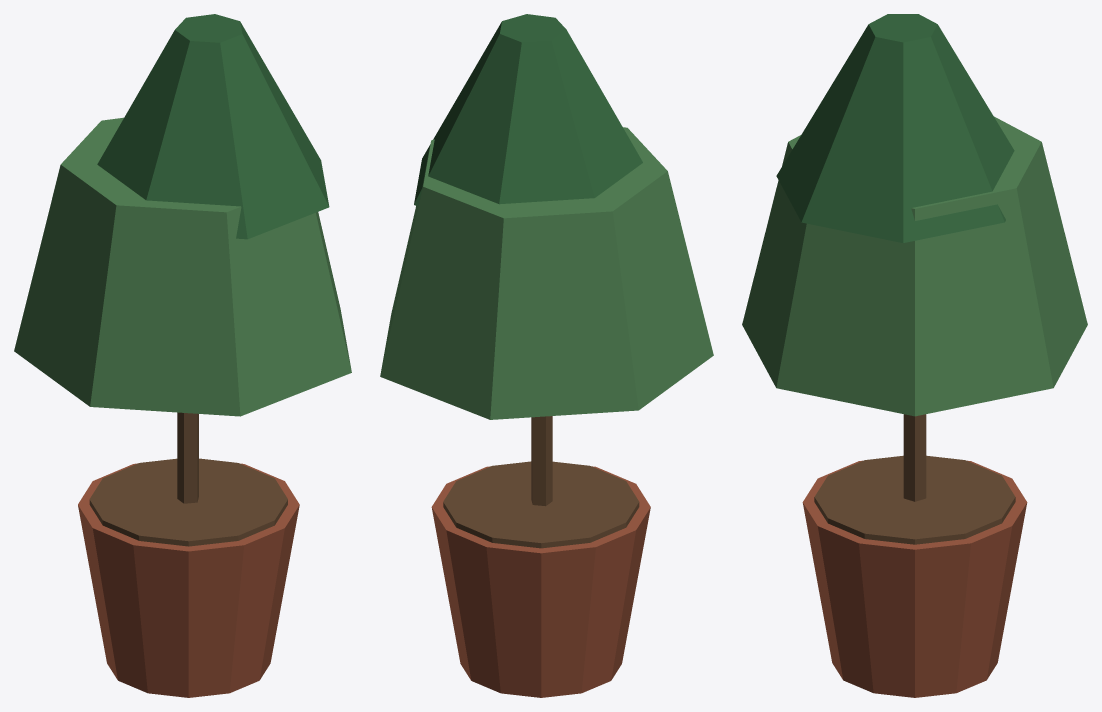
The model's file is plant.glb.
3 renders of one model, left to right at view 1: azimuth 30°, elevation 25°; view 2: azimuth 150°, elevation 25°; view 3: azimuth 270°, elevation 25°, orthographic. The views are drawn at different scales.
Parts seen in each view (by area): view 1: plant; view 2: plant; view 3: plant.
Boxes of the visible parts, <box> form: plant: <box>14,14,351,697</box>; plant: <box>380,14,713,697</box>; plant: <box>742,14,1087,697</box>.
Size of the model in its own units: 0.5703 by 1.2 by 0.585.
